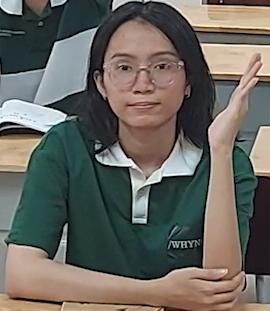Raising_Hand: (4, 9, 265, 302)
